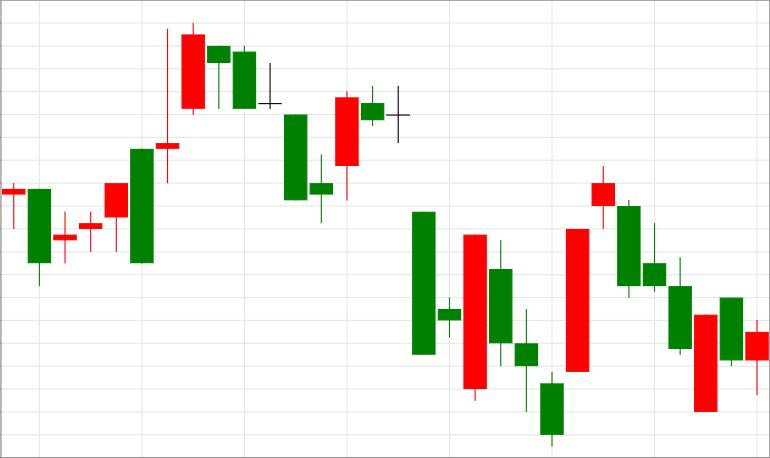bullish_engulfing_rise: (361, 84, 487, 402)
